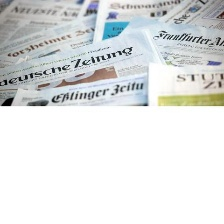news_paper: (0, 26, 168, 109), (4, 69, 176, 107), (114, 14, 223, 68), (92, 0, 188, 52), (0, 0, 104, 44), (141, 57, 224, 106), (156, 0, 223, 33)
